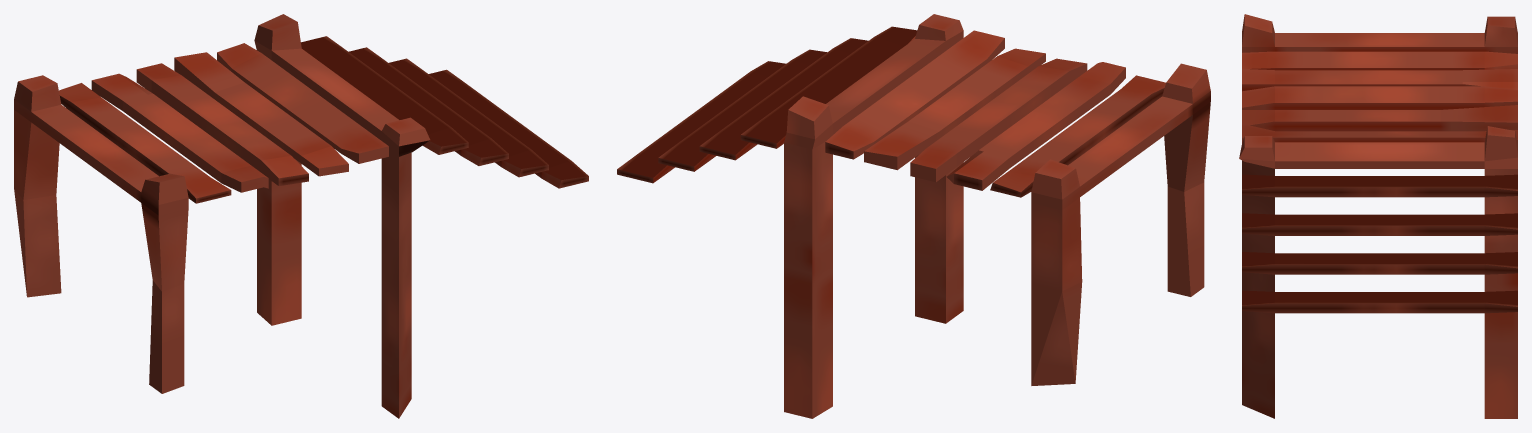
The model's file is Pier43333.fbx.
The picture shows the model from 3 angles, left to right: view 1: azimuth 30°, elevation 25°; view 2: azimuth 150°, elevation 25°; view 3: azimuth 270°, elevation 25°; orthographic projection. The views are drawn at different scales.
Visible parts, largest first — view 1: Pier; view 2: Pier; view 3: Pier.
Part boxes in pixels (<box>): Pier: <box>14,14,588,418</box>; Pier: <box>617,14,1210,418</box>; Pier: <box>1239,14,1517,418</box>.
Bounding box in the file's own units: 273 × 177 × 158.
